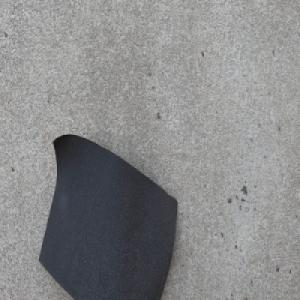PaintChip: (38, 132, 179, 300)
